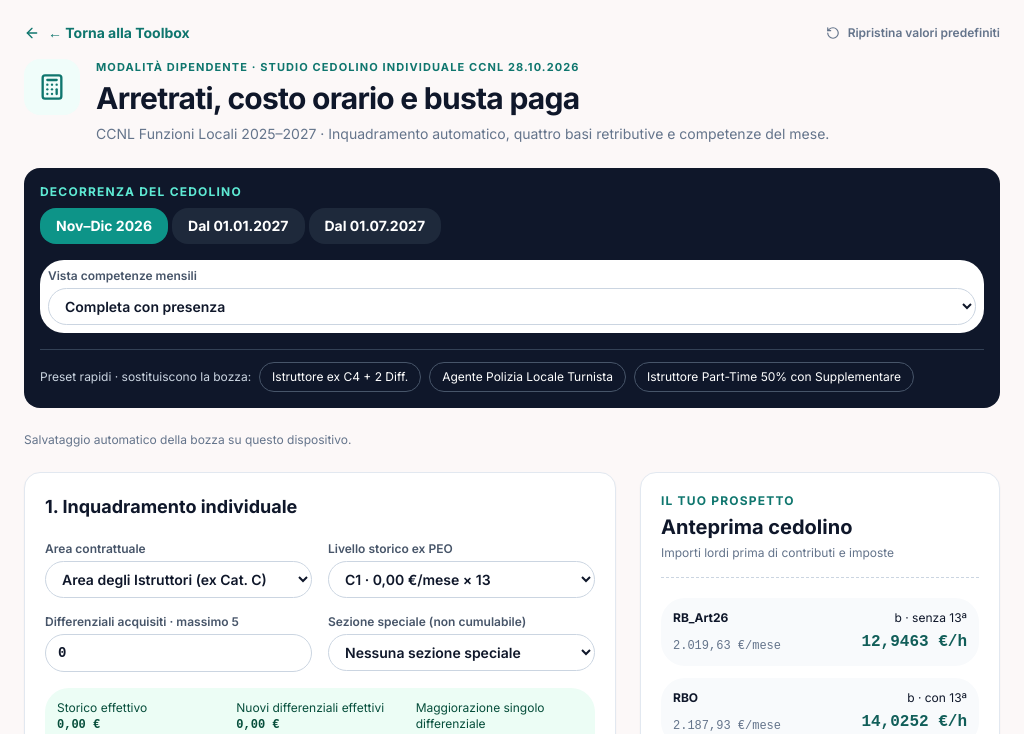
Test: Simulatore individuale · interazioni › blocca ferie nel 2026, segnala input non validi e disabilita gli export
This screenshot has width=1024, height=734.
Step 1. Replace the text in the number field labelled "Differenziali acquisiti · massimo 5" with "6" → {"x": 178, "y": 652}, box [45,634,312,672]
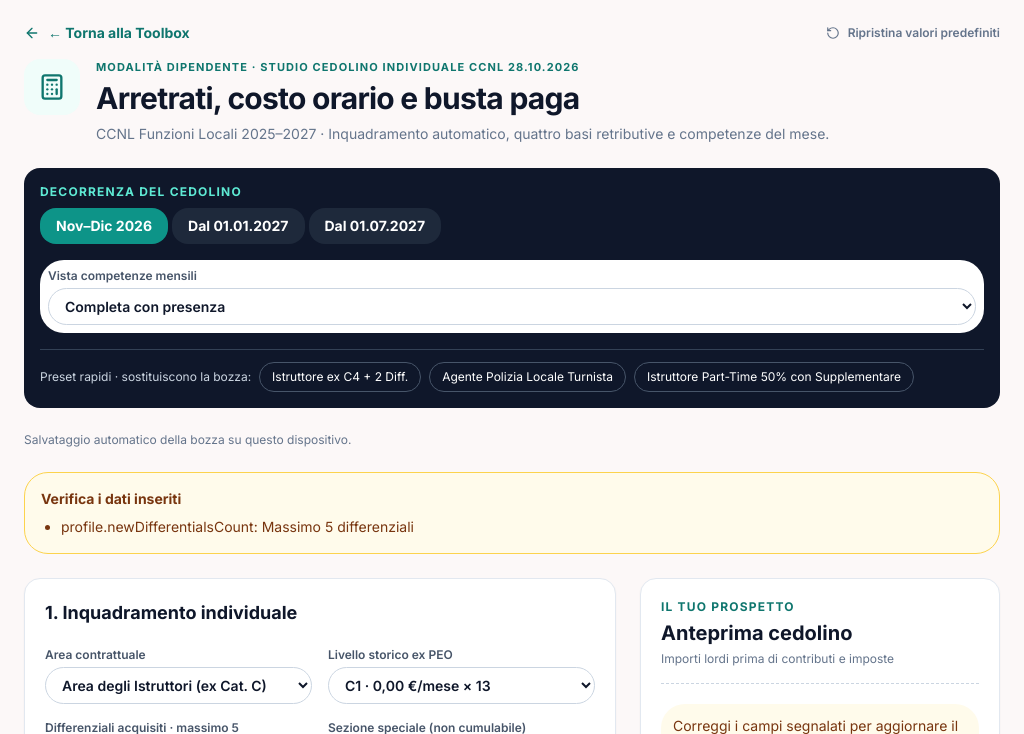
Expected: the message that starts with "Verifica i dati inseriti" shows "Massimo 5 differenziali", [61,518,414,534]
Step 2. Click the button "Ripristina valori predefiniti" → {"x": 913, "y": 33}, box [826,25,1000,41]
(page scrolled)
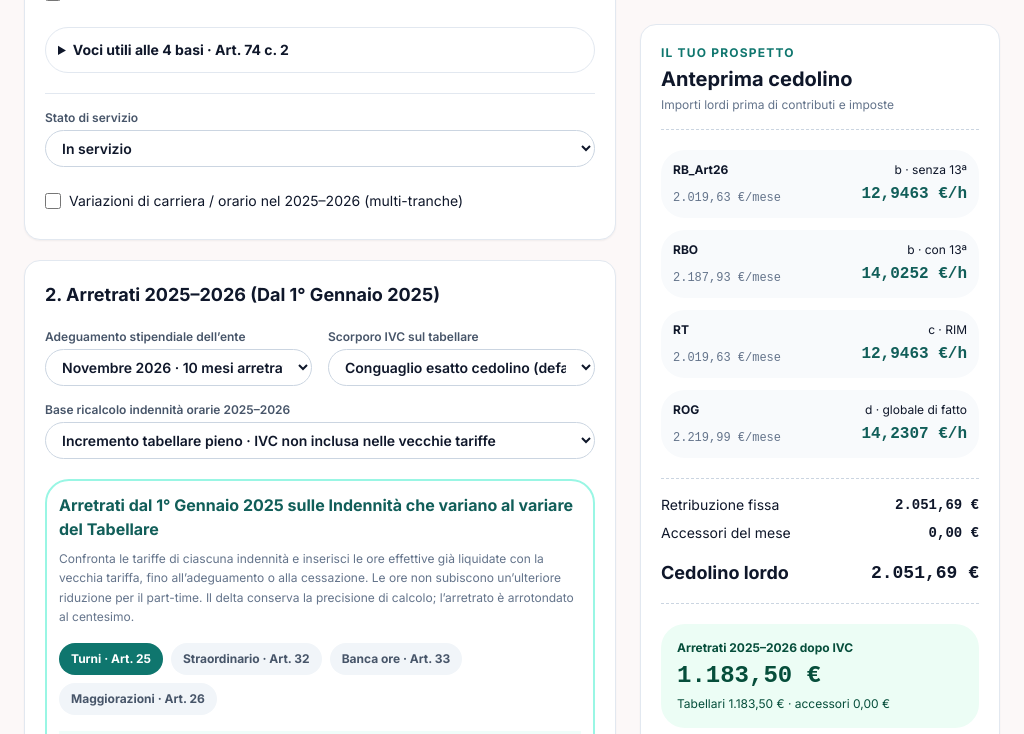
Expected: the message "Verifica i dati inseriti profile.newDifferentialsCount: Massimo 5 differenziali" is gone
